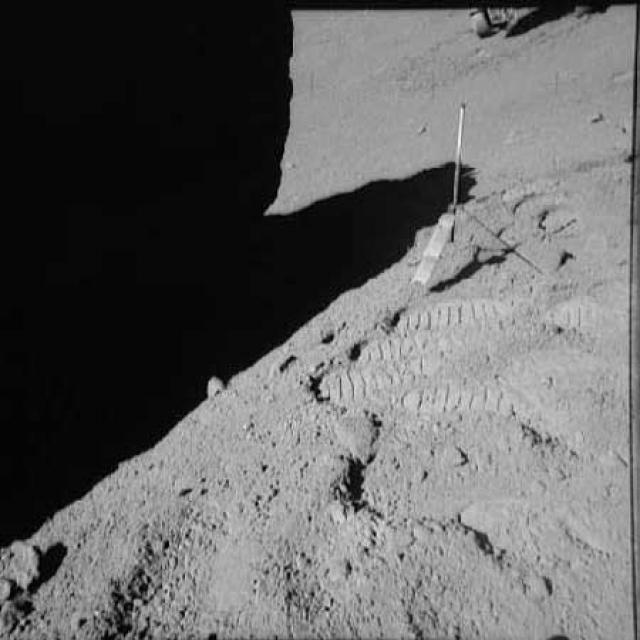artifact: (413, 101, 540, 292)
rock: (0, 535, 52, 606)
